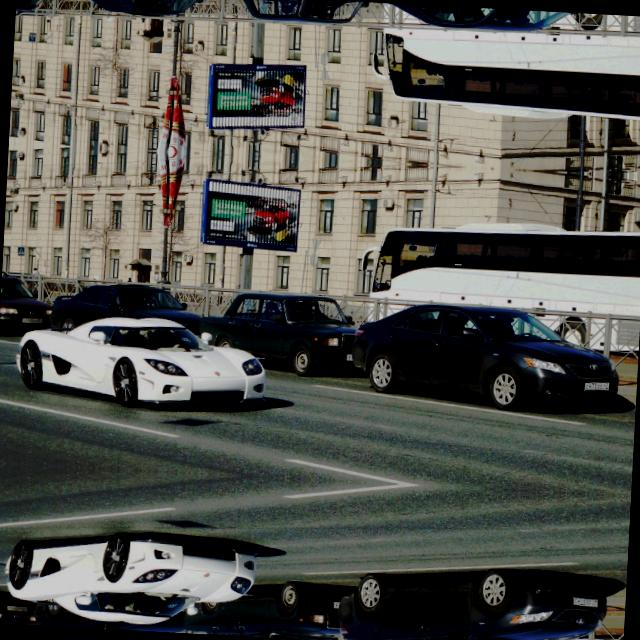citizen: (568, 594, 600, 612), (580, 377, 612, 394)
